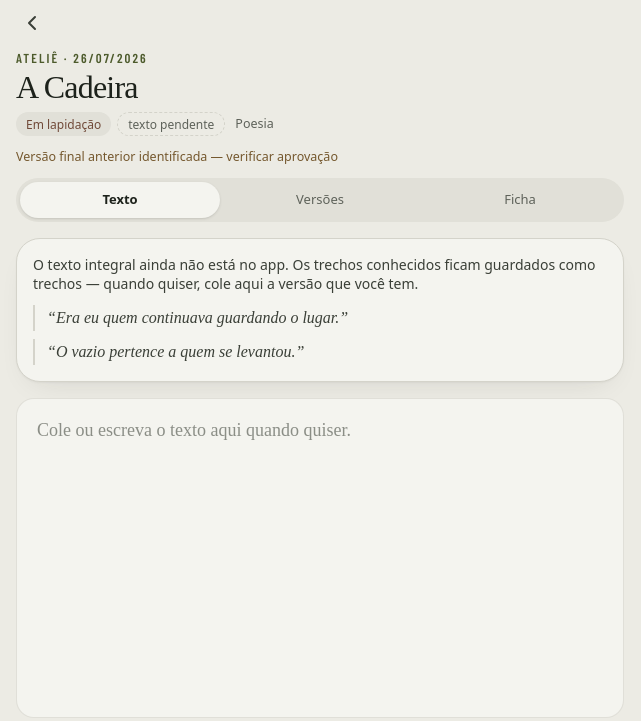
Test case: Ateliê screens › a seeded work shows its excerpts as excerpts and the provenance flag
Expected: the text "“Era eu quem continuava guardando o lugar.”" is shown, [33, 305, 607, 331]
Expected: the text "Versão final anterior identificada — verificar aprovação" is shown, [16, 148, 338, 165]
Click the tab "Versões".
click(320, 200)  # box [220, 182, 420, 218]
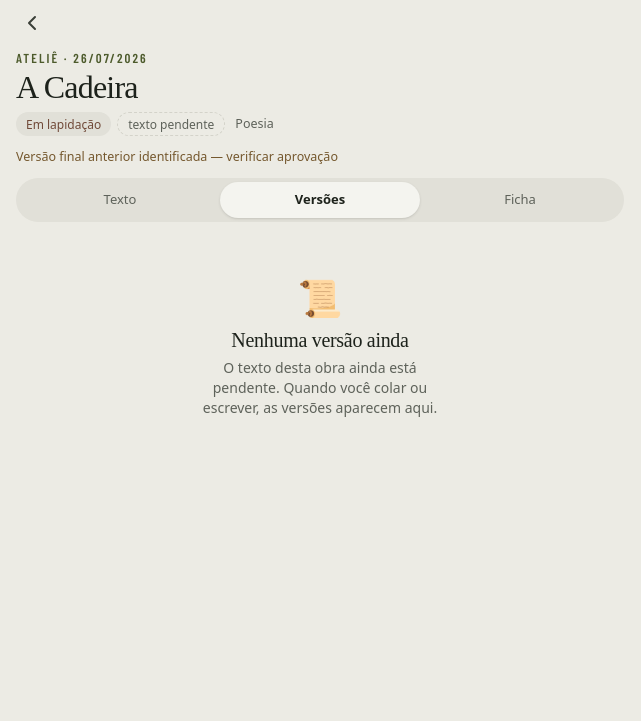
Now the text "Nenhuma versão ainda" is shown, box [231, 326, 409, 354]
Click the tab "Ficha".
click(520, 200)  # box [420, 182, 620, 218]
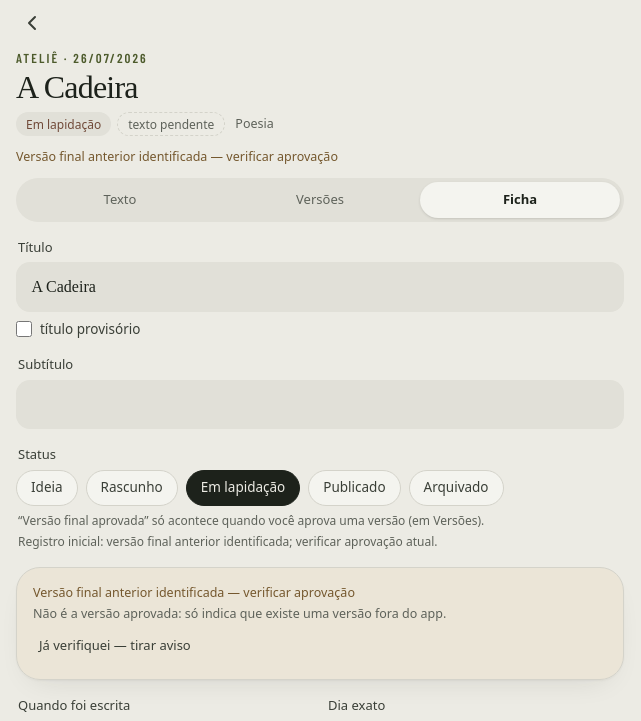
Now the field named "Título" is shown, box [16, 262, 624, 312]
